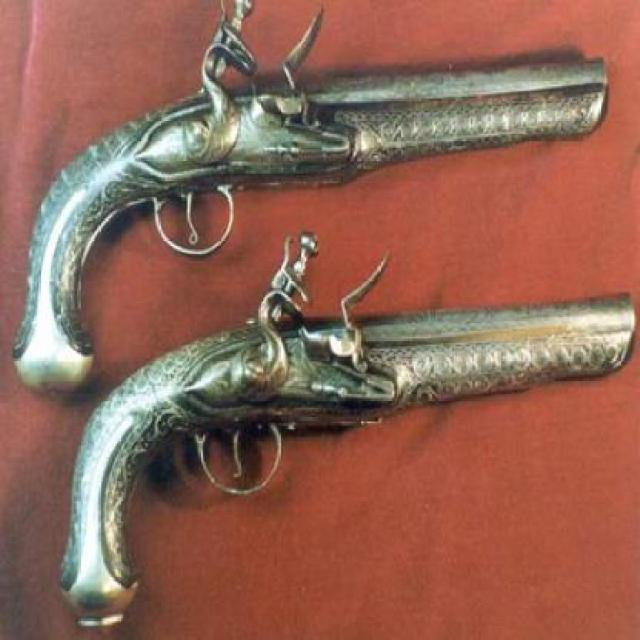gun: (57, 188, 637, 626), (13, 4, 609, 393)
